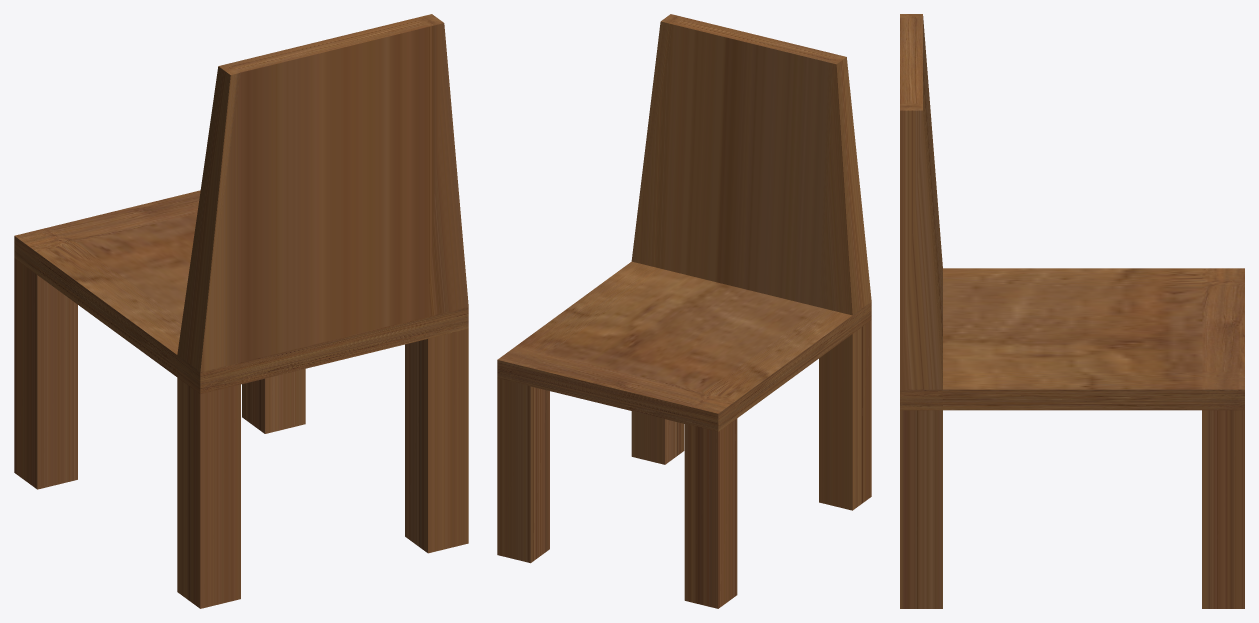
File: silla.fbx
3 renders of one model, left to right at view 1: azimuth 30°, elevation 25°; view 2: azimuth 150°, elevation 25°; view 3: azimuth 270°, elevation 25°, orthographic. The views are drawn at different scales.
Visible parts, largest first — view 1: pCube7; view 2: pCube7; view 3: pCube7.
Part boxes in pixels (<box>): pCube7: <box>14,14,468,608</box>; pCube7: <box>497,14,871,608</box>; pCube7: <box>900,14,1244,608</box>.
Bounding box in the file's own units: 44.83 × 84.06 × 53.89.
Materials: 1 (1 with a texture image).
